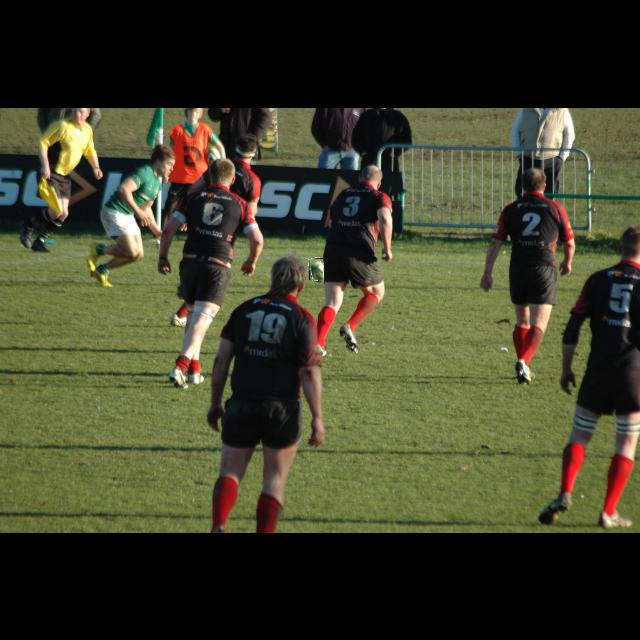Football: (309, 258, 323, 280)
